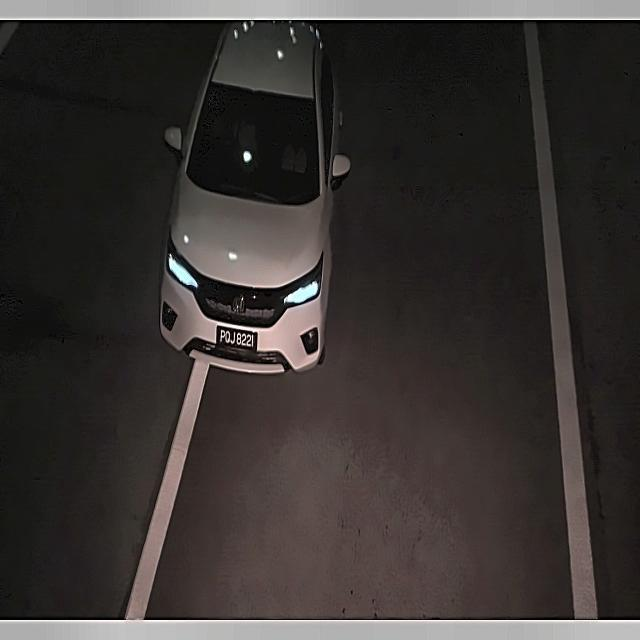car: (209, 318, 264, 362)
